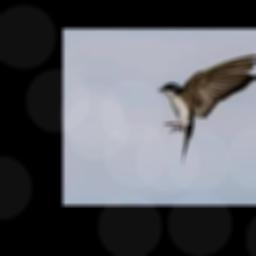Swallow: (158, 55, 256, 164)
